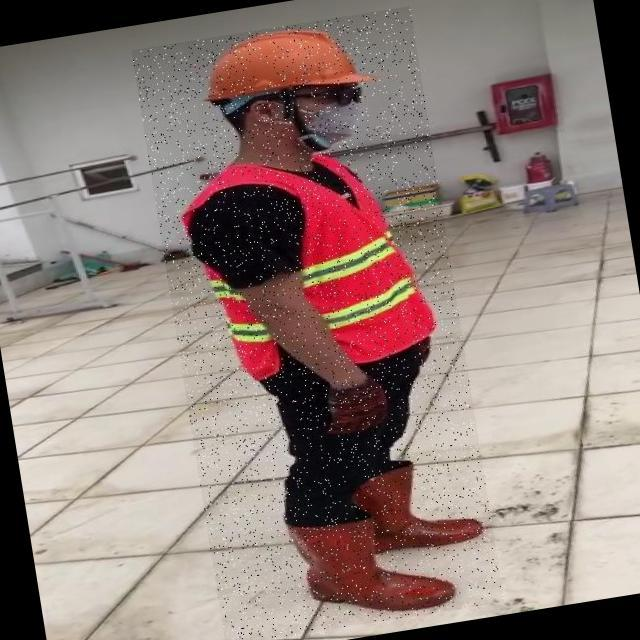Gloves: (317, 376, 396, 437)
Helmet: (187, 18, 361, 109)
Human: (131, 6, 504, 640)
Safety Boot: (288, 498, 459, 629), (362, 453, 484, 556)
Safety Vest: (168, 142, 444, 388)
